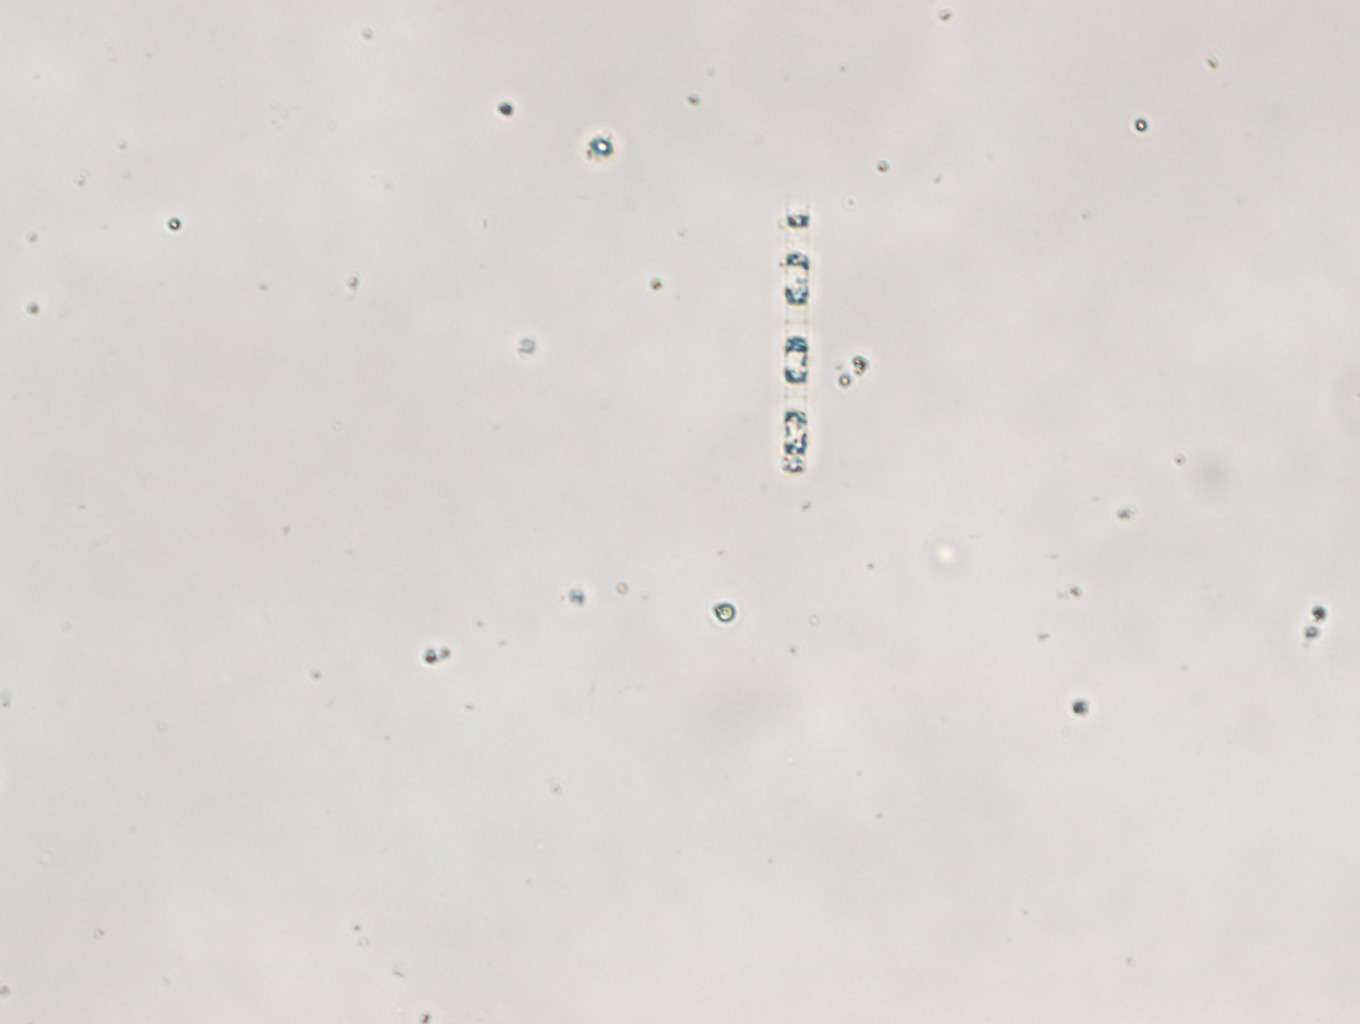skeletonema: (778, 194, 812, 481)
